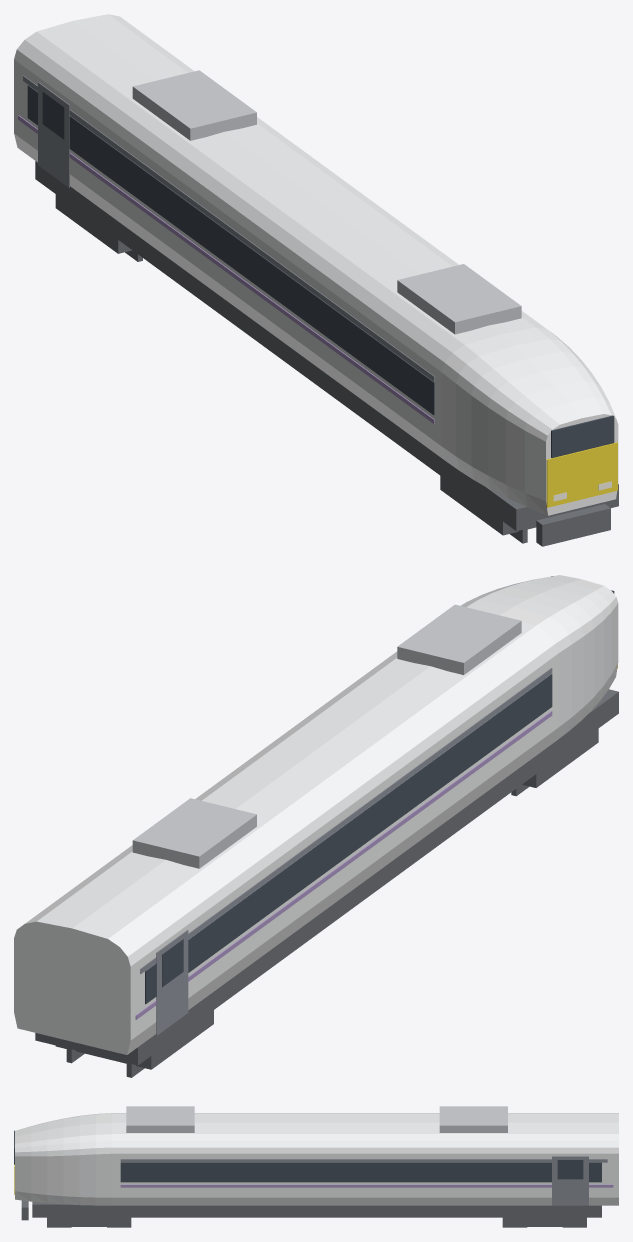
File: kiha261_lead.glb
3 views of the same model, one above another, from view 1: azimuth 30°, elevation 25°; view 2: azimuth 150°, elevation 25°; view 3: azimuth 270°, elevation 25° (orthographic). The views are drawn at different scales.
Parts seen in each view (by area): view 1: kiha261_lead; view 2: kiha261_lead; view 3: kiha261_lead.
Part boxes in pixels (x1,y1,x2,y2): kiha261_lead: (14,14,618,546); kiha261_lead: (14,575,618,1077); kiha261_lead: (14,1106,618,1227).
Bounding box in the file's own units: 2.87 × 3.96 × 21.24.
